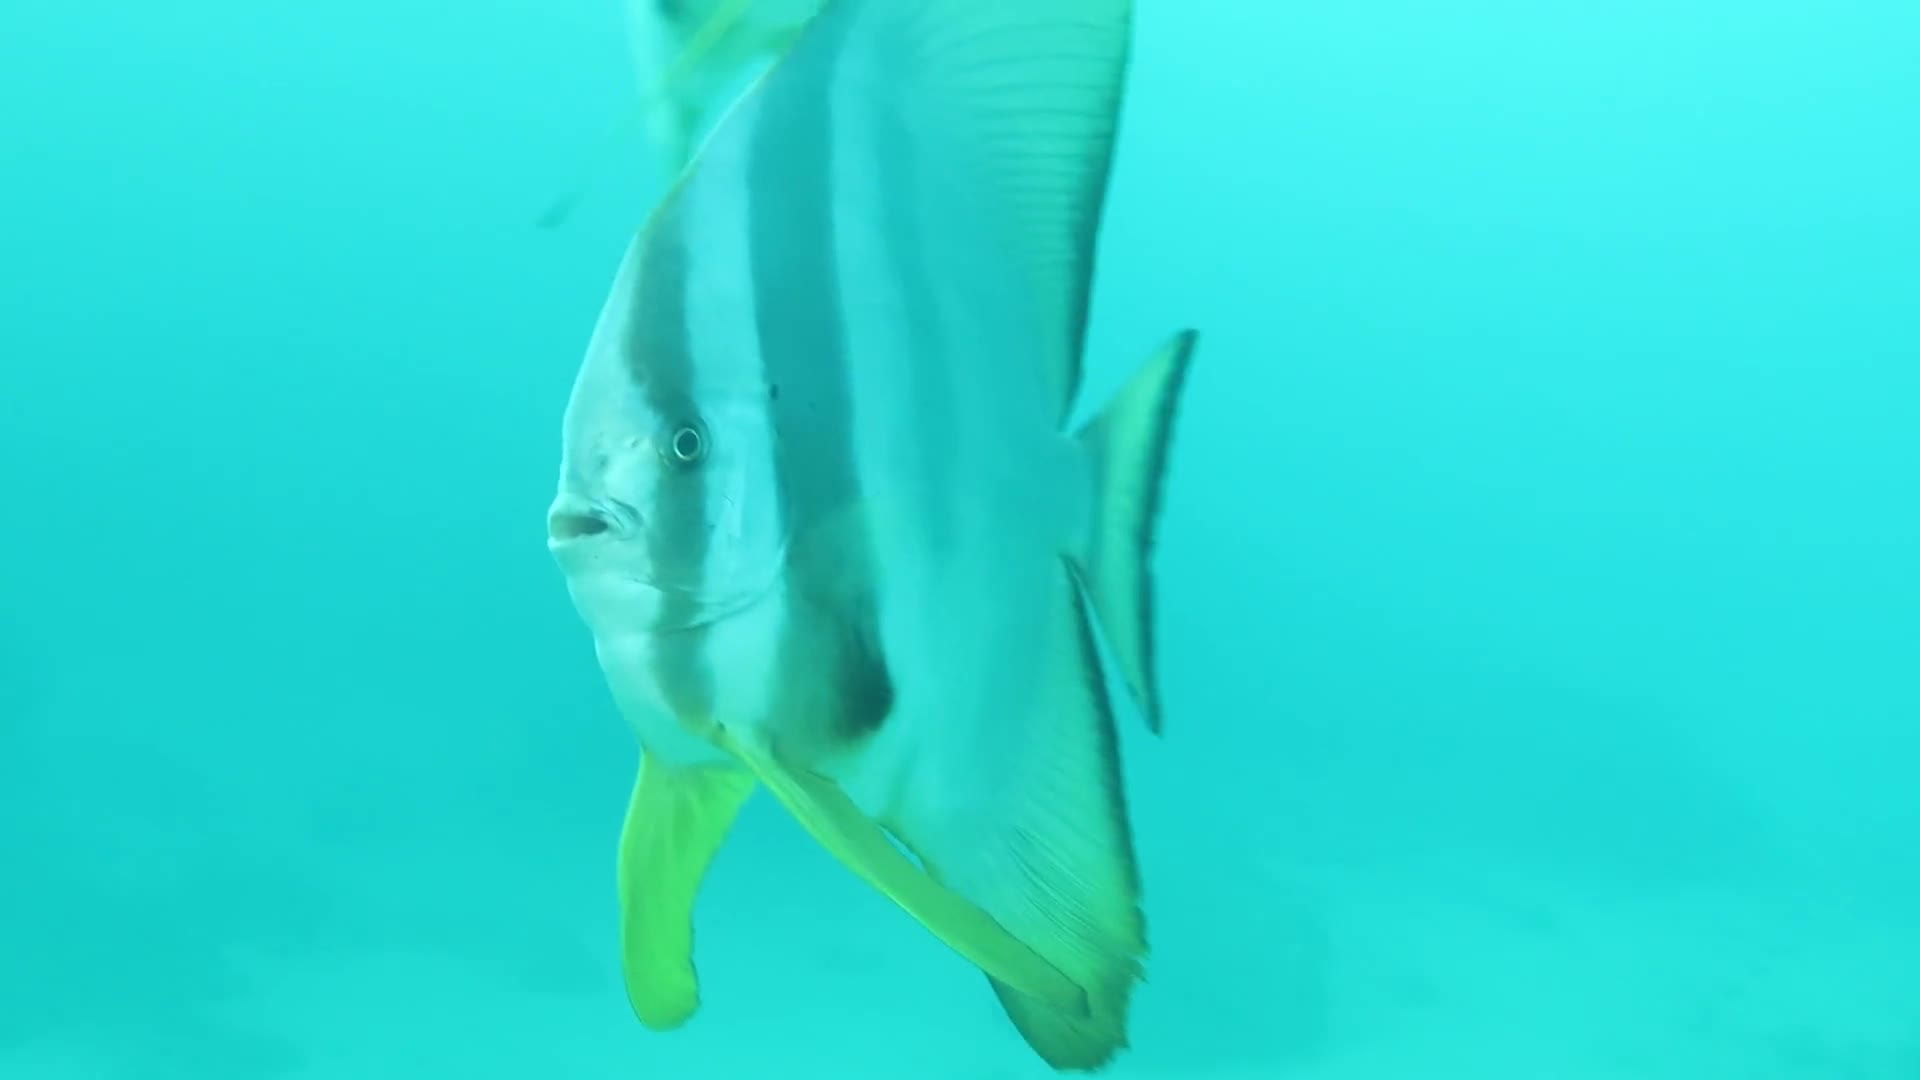Platax teira: (446, 1, 1261, 1080)
